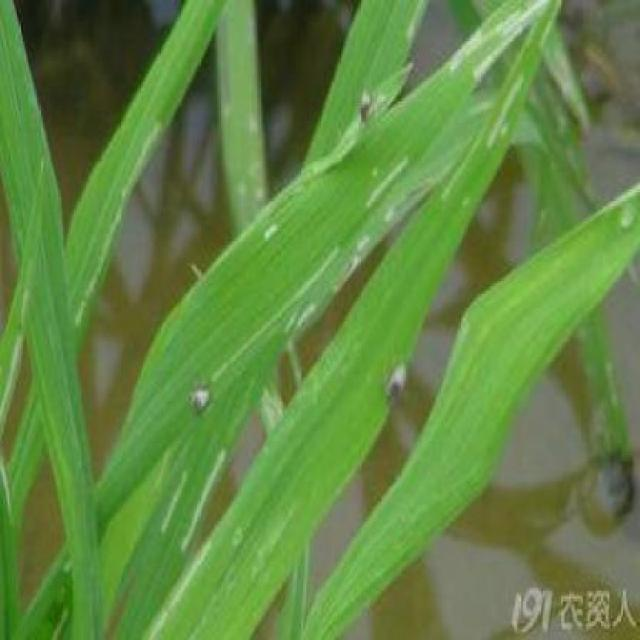rice-bug: (385, 359, 409, 403), (190, 380, 212, 414), (359, 88, 375, 121)
